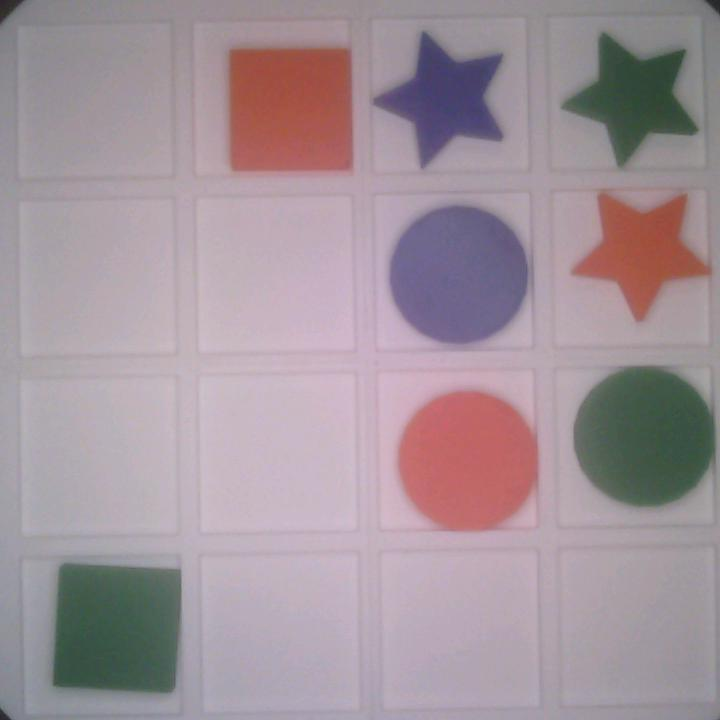Blue circle: (390, 200, 531, 349)
Blue star: (373, 33, 509, 161)
Green circle: (568, 367, 718, 519)
Green square: (40, 555, 187, 697)
Green star: (555, 28, 701, 169)
Orange circle: (400, 387, 543, 540)
Orange square: (222, 41, 354, 182)
Orange star: (573, 193, 707, 328)
